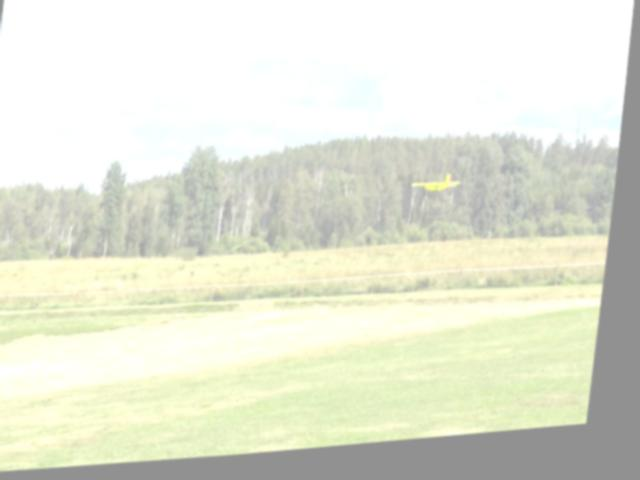plane: (414, 181, 465, 210)
